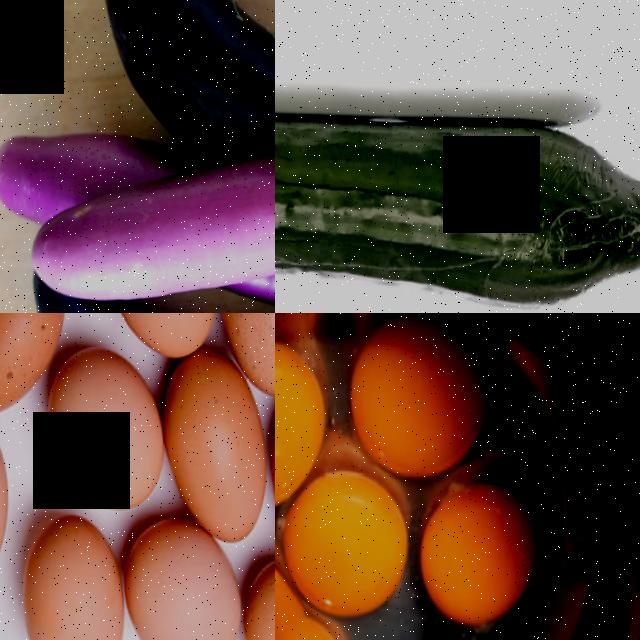cucumber: (275, 97, 640, 313)
egg_: (46, 347, 175, 508), (164, 360, 275, 543), (420, 483, 548, 632), (286, 472, 416, 618), (126, 520, 253, 640), (19, 514, 137, 640), (275, 338, 329, 508), (0, 313, 72, 416), (98, 313, 223, 364), (220, 313, 275, 396), (347, 313, 404, 353)
eggplant: (98, 0, 275, 154), (188, 143, 275, 263)
